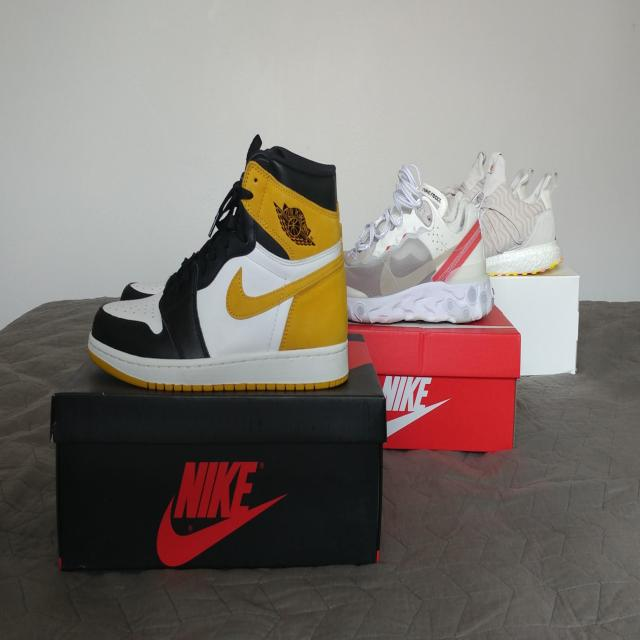shoes: (88, 120, 349, 392), (352, 153, 478, 330), (482, 135, 585, 293)
